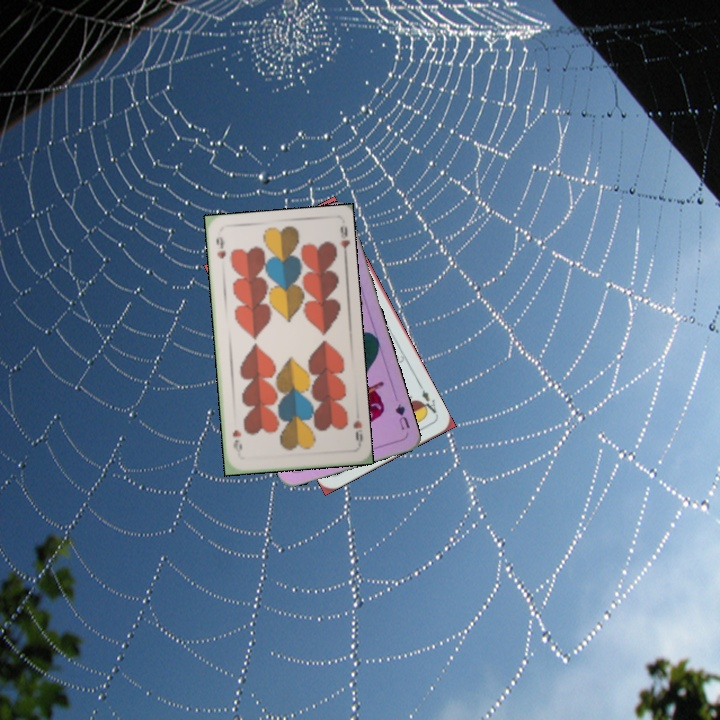EA: (415, 381, 440, 419)
GU: (391, 400, 412, 432)
H9: (349, 416, 365, 448), (212, 233, 228, 261)
